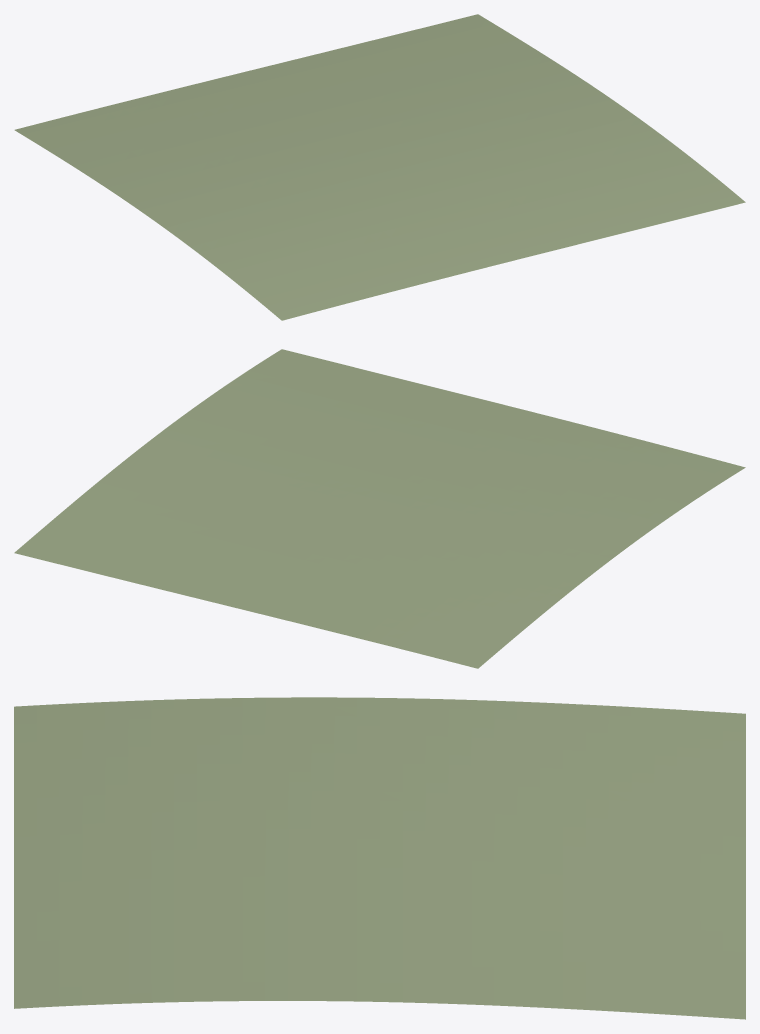
File: desert-22-22.glb
The picture shows the model from 3 angles, top to bottom: view 1: azimuth 30°, elevation 25°; view 2: azimuth 150°, elevation 25°; view 3: azimuth 270°, elevation 25°; orthographic projection. The views are drawn at different scales.
Parts seen in each view (by area): view 1: desert-22-22; view 2: desert-22-22; view 3: desert-22-22.
Part boxes in pixels (x1=…): desert-22-22: x1=14, y1=14, x2=745, y2=320; desert-22-22: x1=14, y1=349, x2=745, y2=668; desert-22-22: x1=14, y1=697, x2=745, y2=1019.
Size of the model in its own units: 512 by 17.1 by 512.
